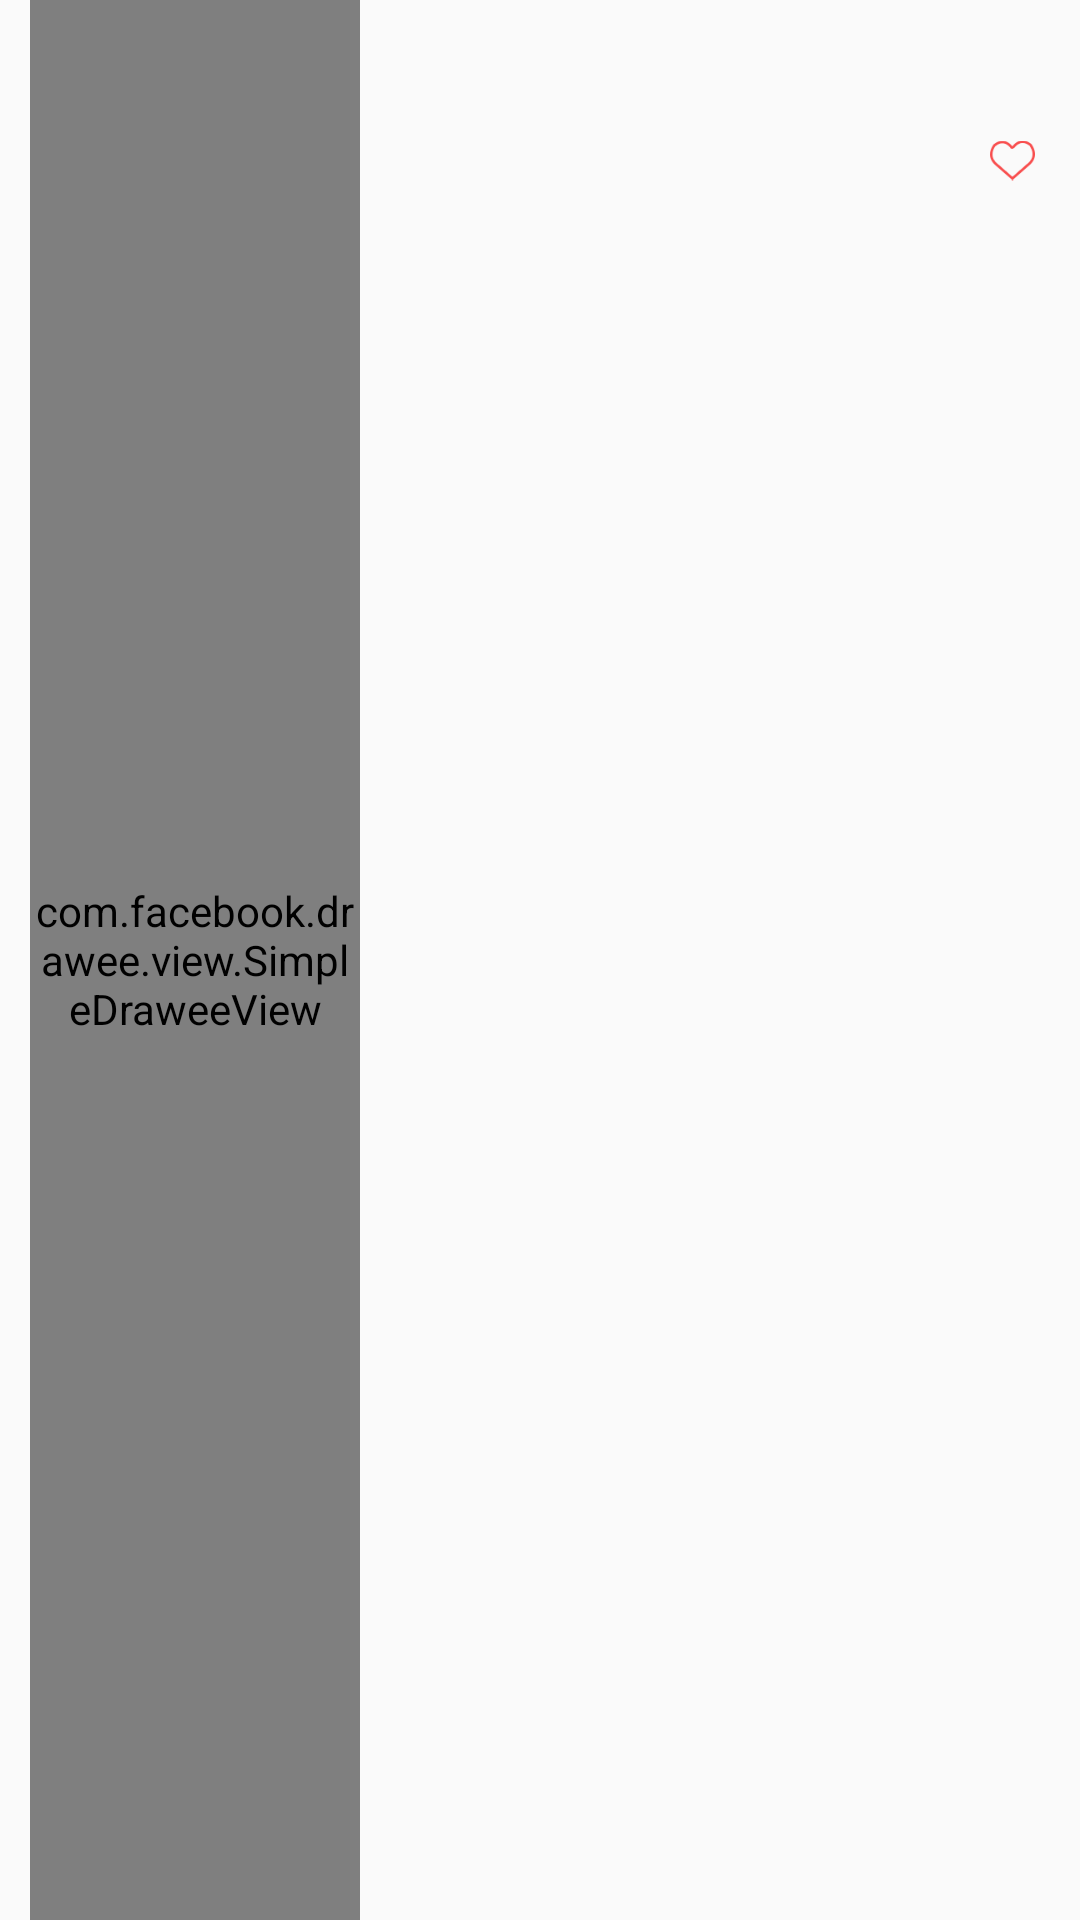

Icons on this 1080 × 1920 Android screen, each with the point to tap as (x,y):
heart: (1012,161)
